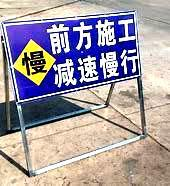sign: (7, 12, 139, 96)
